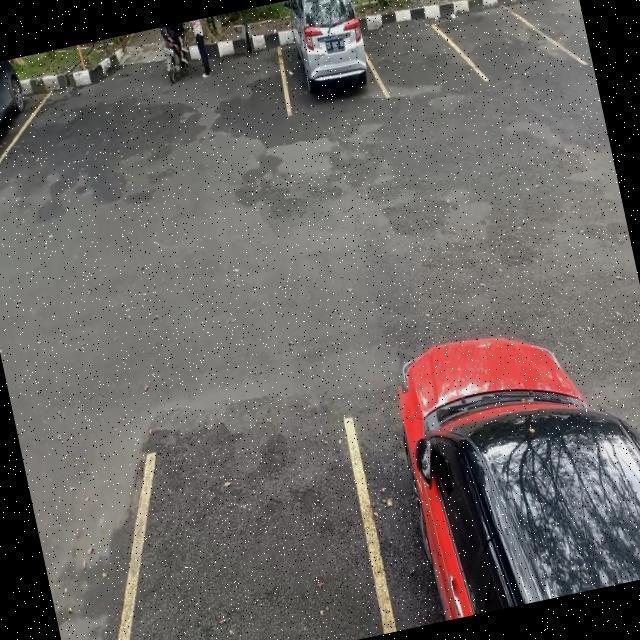empty: (120, 421, 392, 640), (358, 0, 467, 99), (453, 0, 560, 88), (498, 0, 587, 60)
occupied: (349, 379, 640, 632), (266, 0, 383, 114), (0, 56, 43, 183)
